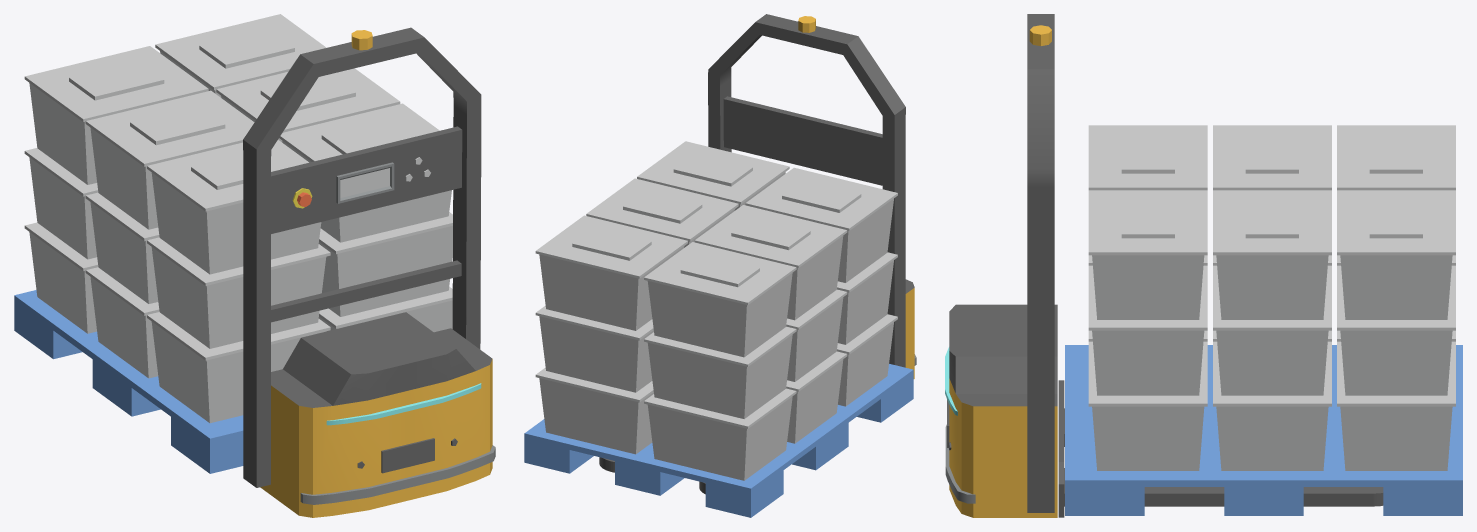
File: agvMore.glb
3 renders of one model, left to right at view 1: azimuth 30°, elevation 25°; view 2: azimuth 150°, elevation 25°; view 3: azimuth 270°, elevation 25°, orthographic. The views are drawn at different scales.
Visible parts, largest first — view 1: 货物-材质.5, AGV-材质.12 (×2), AGV-材质.1, 货物-材质.4, AGV-材质.7_1, AGV-材质.2, AGV-材质.5; view 2: 货物-材质.5, AGV-材质.12, 货物-材质.4, AGV-材质.1; view 3: 货物-材质.5, AGV-材质.12 (×2), 货物-材质.4, AGV-材质.1.
Boxes of the visible parts, x1=… form: 货物-材质.5: x1=24, y1=14, x2=452, y2=423; AGV-材质.12 (×2): x1=243, y1=27, x2=492, y2=487; AGV-材质.1: x1=260, y1=359, x2=492, y2=517; 货物-材质.4: x1=14, y1=290, x2=243, y2=473; AGV-材质.7_1: x1=300, y1=162, x2=495, y2=504; AGV-材质.2: x1=326, y1=383, x2=481, y2=425; AGV-材质.5: x1=340, y1=168, x2=389, y2=197; 货物-材质.5: x1=535, y1=141, x2=897, y2=480; AGV-材质.12: x1=599, y1=14, x2=905, y2=494; 货物-材质.4: x1=524, y1=363, x2=913, y2=517; AGV-材质.1: x1=905, y1=288, x2=914, y2=378; 货物-材质.5: x1=1088, y1=125, x2=1455, y2=470; AGV-材质.12 (×2): x1=947, y1=14, x2=1383, y2=517; 货物-材质.4: x1=1065, y1=345, x2=1462, y2=515; AGV-材质.1: x1=949, y1=378, x2=1057, y2=517.
Size of the model in its own units: 32.2 by 48.85 by 52.1.
